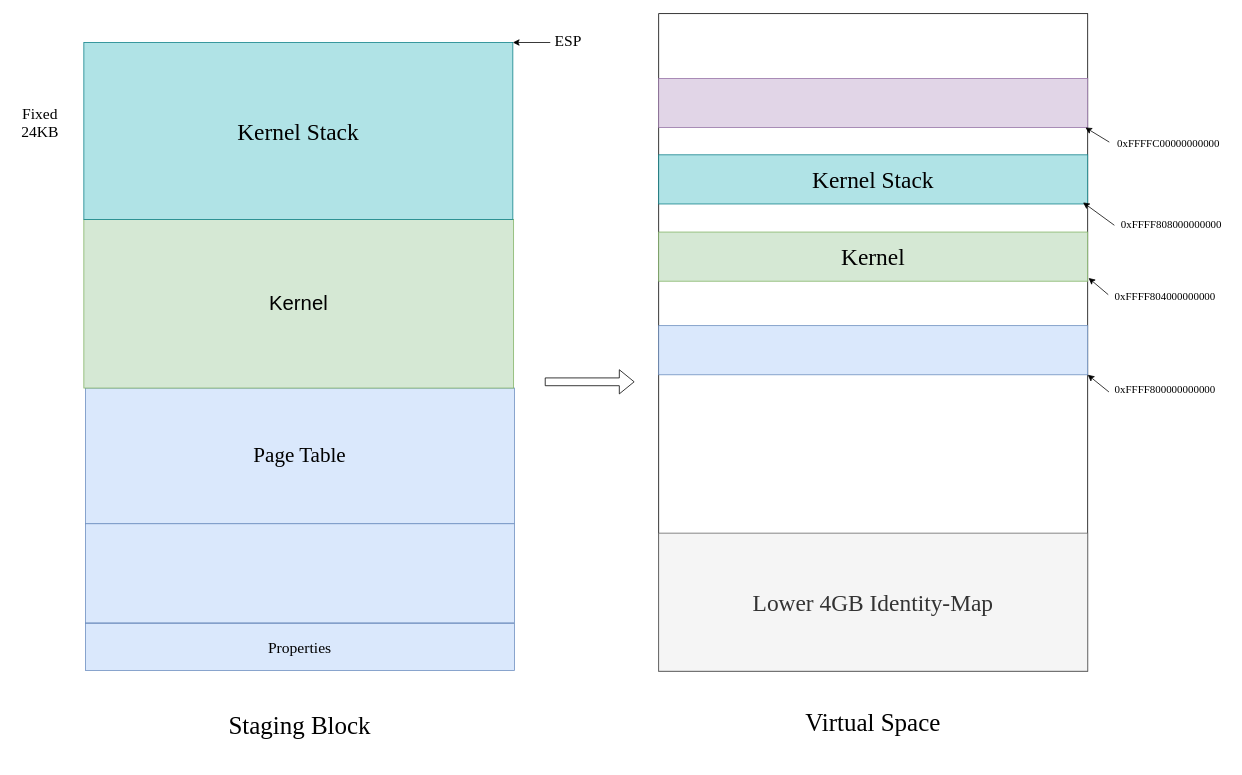
Image size: 1242x775. Some labels were removed from this diagram. The centre of each missing label's shape, as x and y in pixels:
Boot Info: pixel 873 350
MMIO: pixel 873 103
UEFI Memory Map: pixel 299 573
